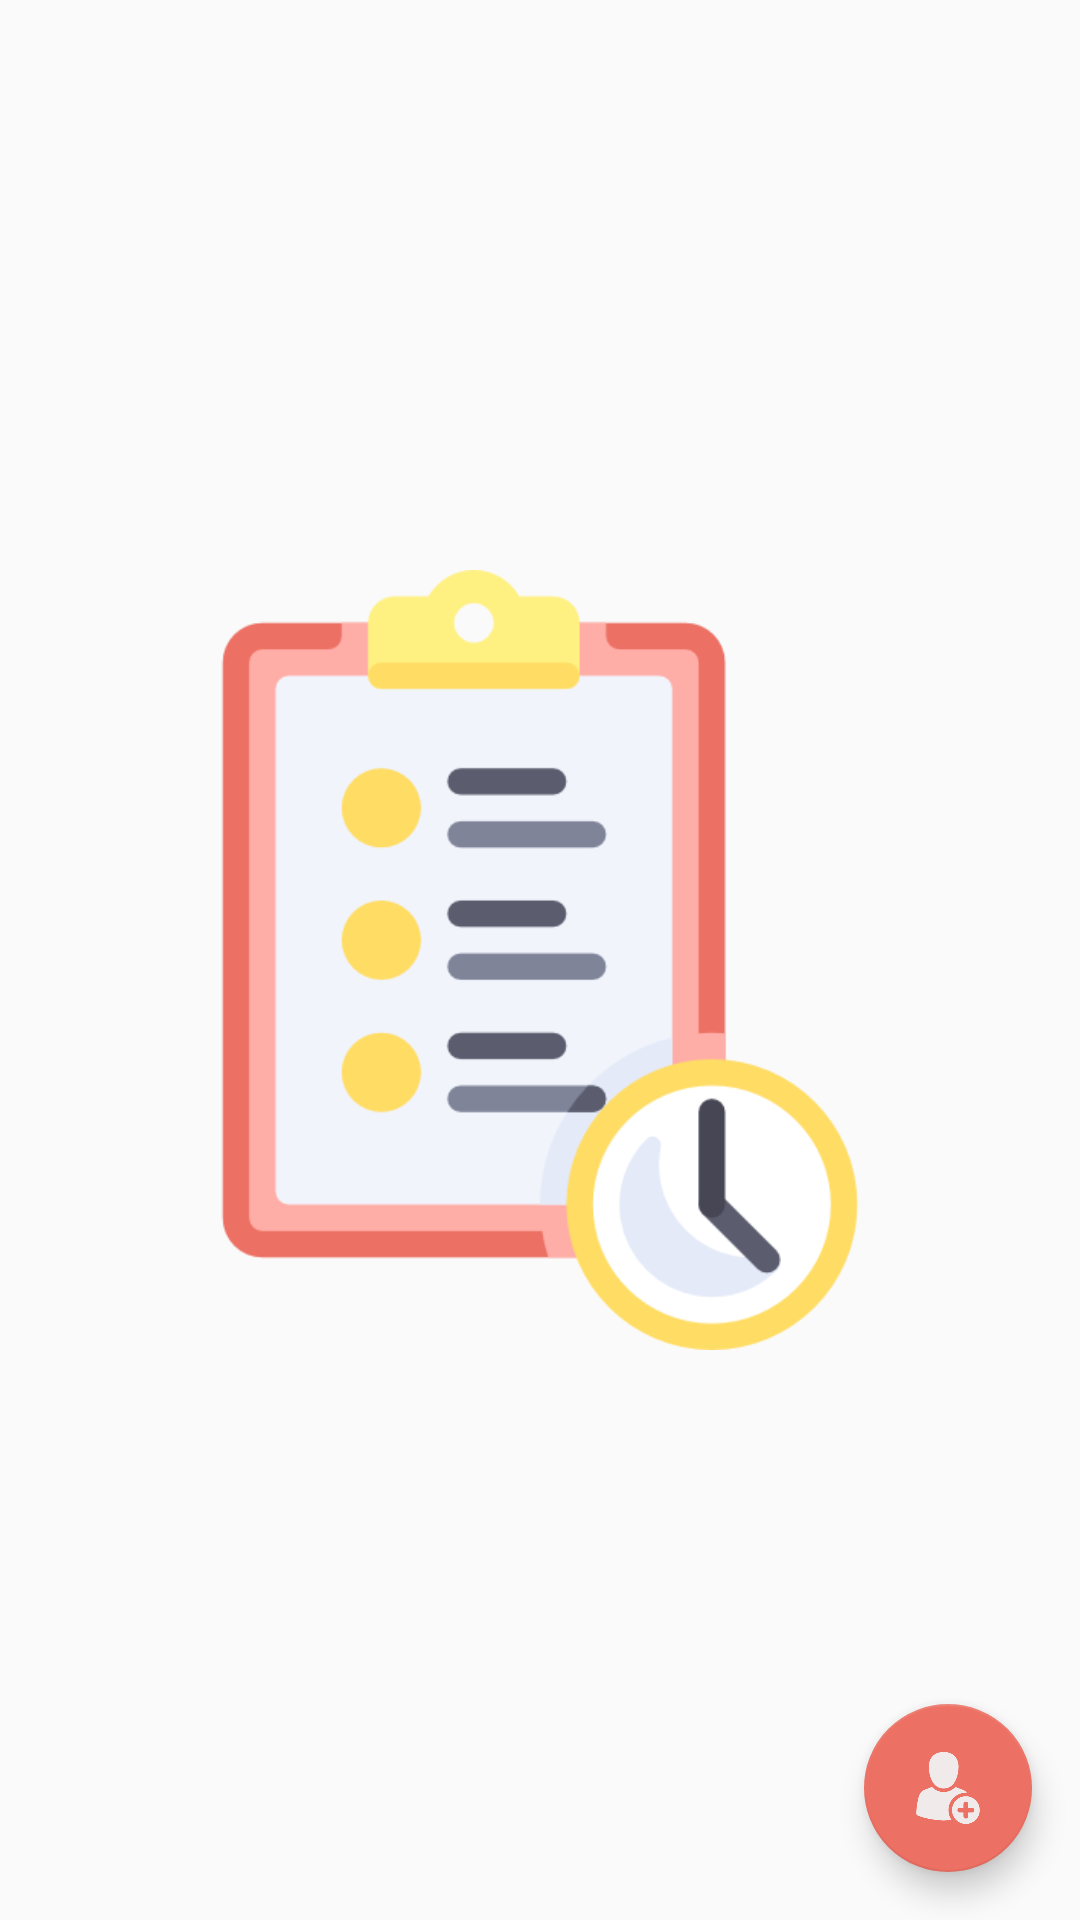

Icon click points for this 1080px x 1920px phone screenshot, format (x,y):
newuser: (948,1788)
